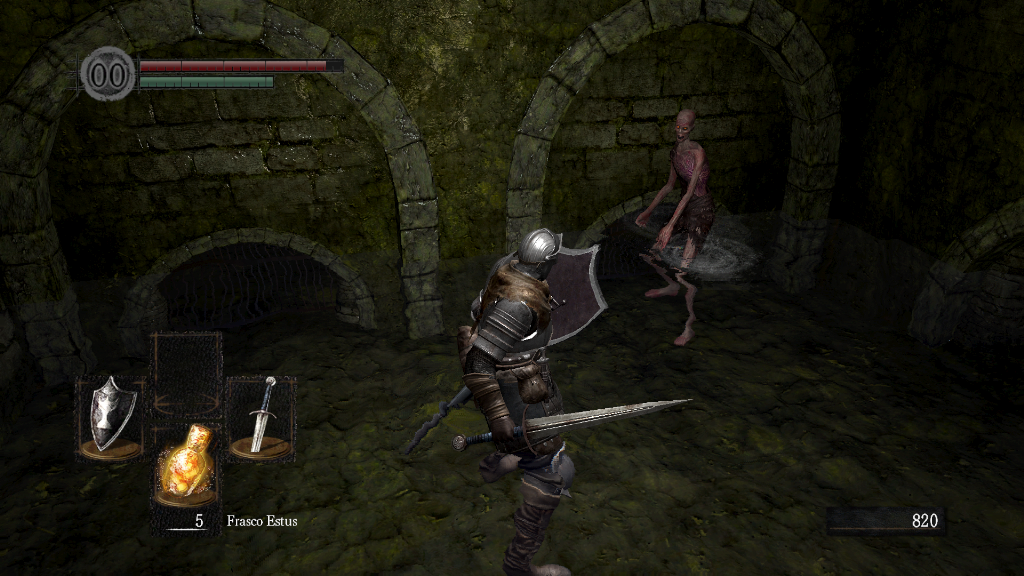health: (138, 58, 343, 71)
hollow: (633, 109, 716, 349)
humanity: (80, 45, 136, 102)
player: (401, 228, 695, 576)
souls: (825, 506, 945, 536)
stamina: (138, 74, 274, 88)
